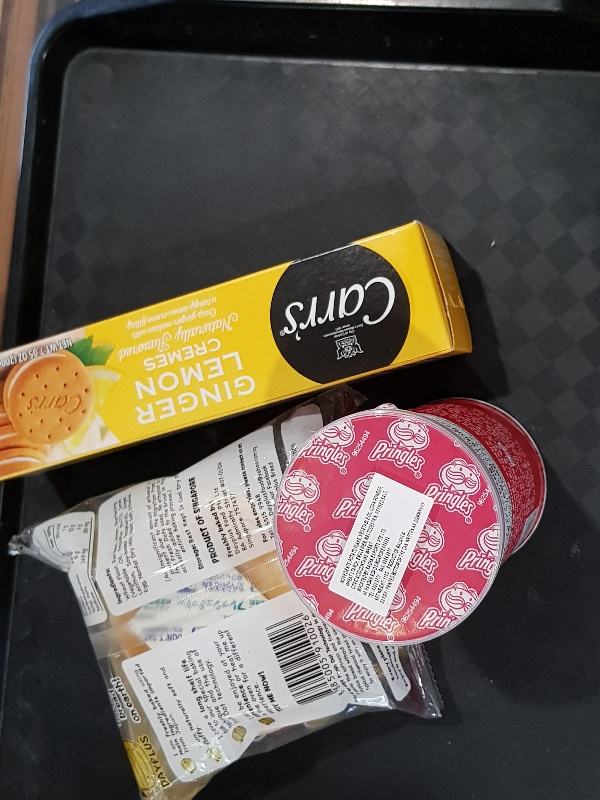Carr's Ginger Lemon Cremes: (1, 217, 472, 480)
Dayplus Red Bean: (22, 403, 444, 800)
Pringles Original: (273, 396, 547, 645)
